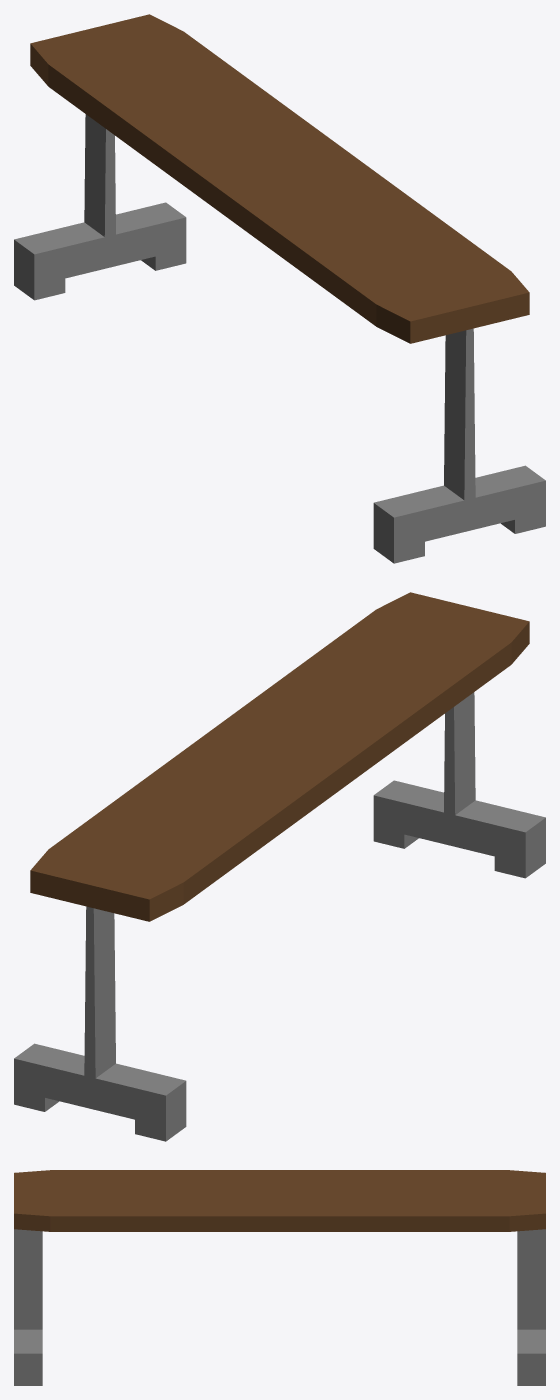
File: GymBench.001.fbx
3 views of the same model, one above another, from view 1: azimuth 30°, elevation 25°; view 2: azimuth 150°, elevation 25°; view 3: azimuth 270°, elevation 25° (orthographic). The views are drawn at different scales.
Parts seen in each view (by area): view 1: GymBench.001; view 2: GymBench.001; view 3: GymBench.001.
Part boxes in pixels (box(x1,y1,x2,y2)): GymBench.001: box(14, 14, 545, 563); GymBench.001: box(14, 592, 545, 1141); GymBench.001: box(14, 1170, 545, 1385).
Size of the model in its own units: 26.1 by 39.08 by 113.
